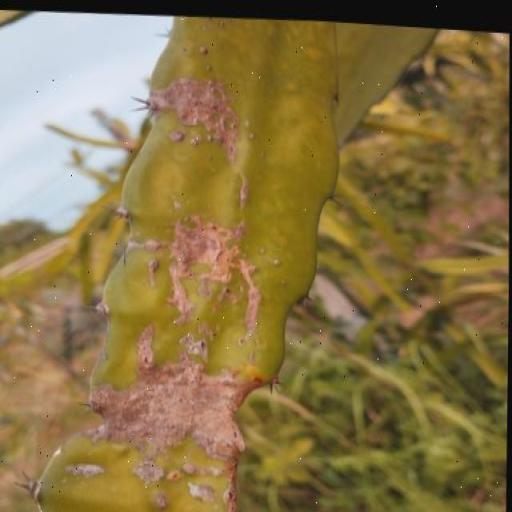stemcanker: (196, 34, 210, 59), (168, 128, 187, 146), (255, 238, 268, 260), (272, 253, 282, 271), (245, 130, 258, 143), (275, 275, 287, 288), (244, 117, 254, 125)
